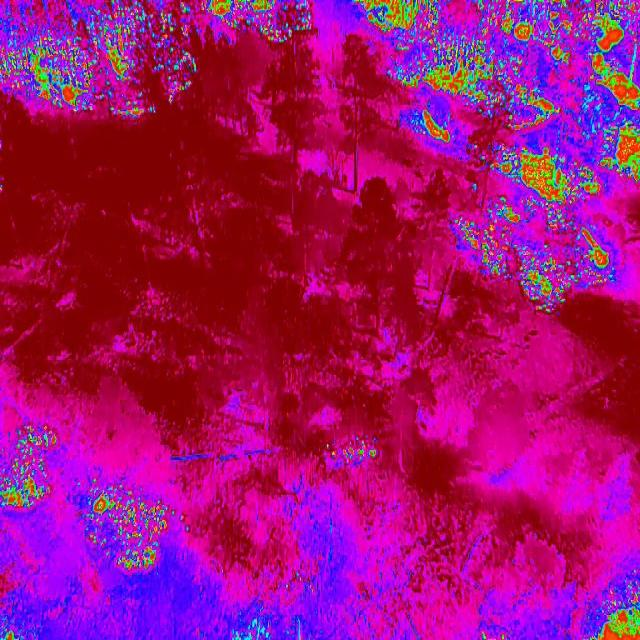fire: (388, 45, 640, 143), (0, 0, 199, 115), (453, 198, 624, 278), (349, 0, 640, 45), (74, 473, 194, 578), (470, 143, 640, 198), (0, 414, 59, 510), (200, 0, 314, 49), (518, 278, 618, 316), (592, 595, 640, 640), (0, 619, 18, 640)
